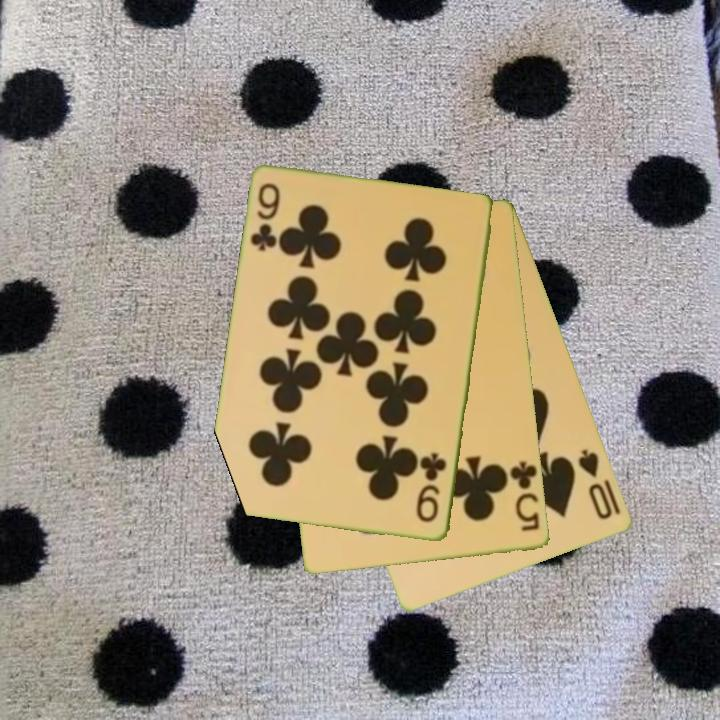10s: (575, 445, 616, 523)
5c: (504, 458, 543, 535)
9c: (413, 449, 450, 526), (247, 180, 284, 254)
